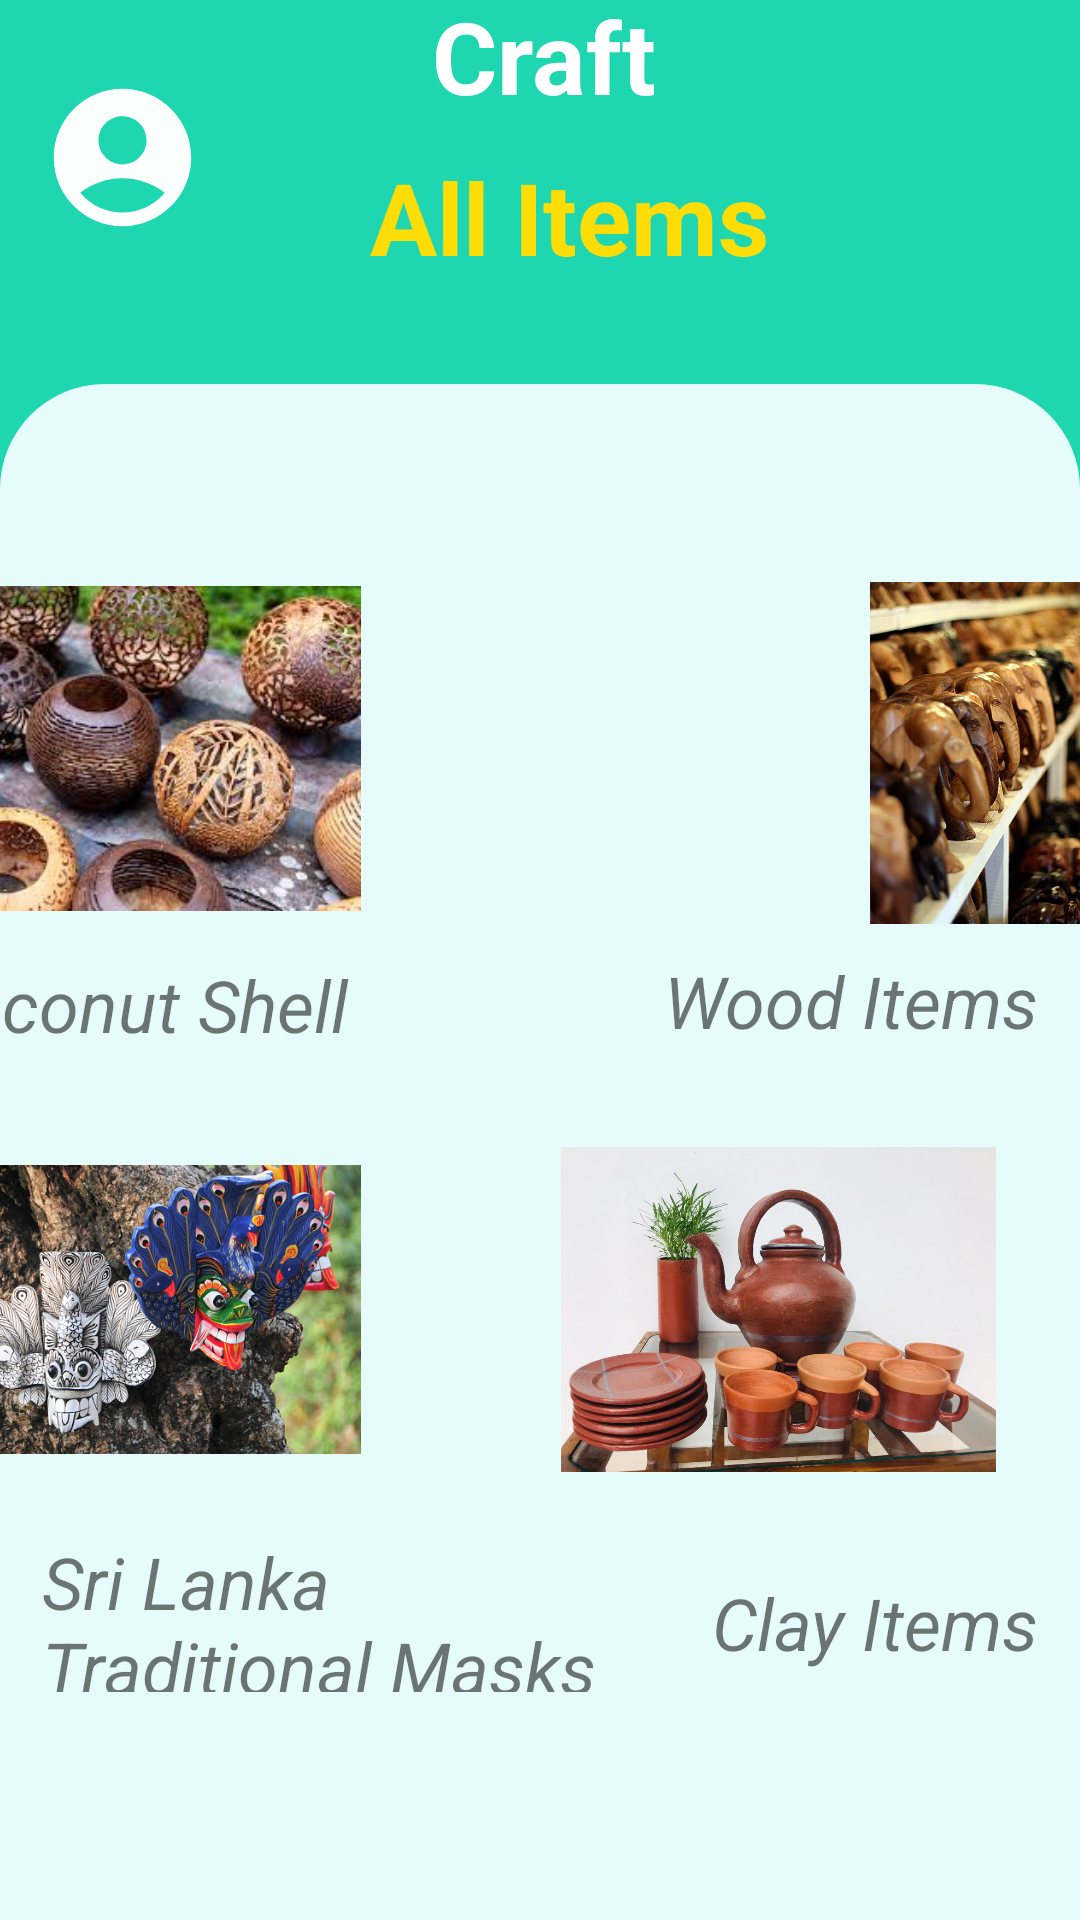

Named icons in this screenshot (1080w x 1920h) and their centers, point (x, y):
user profile: point (122, 157)
